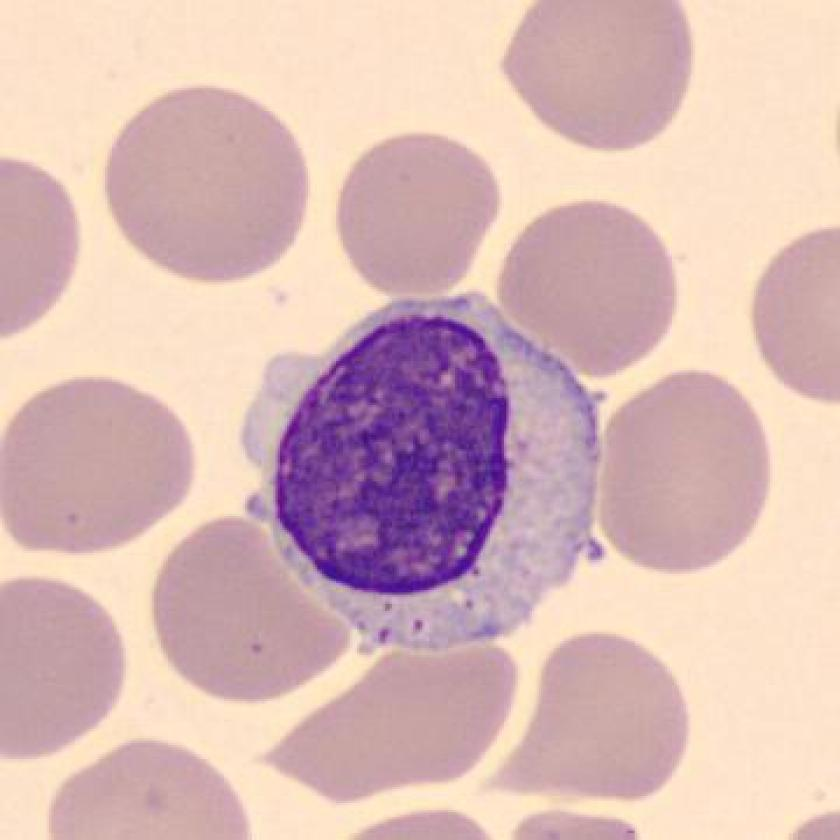lymphocyte: (227, 286, 631, 672)
